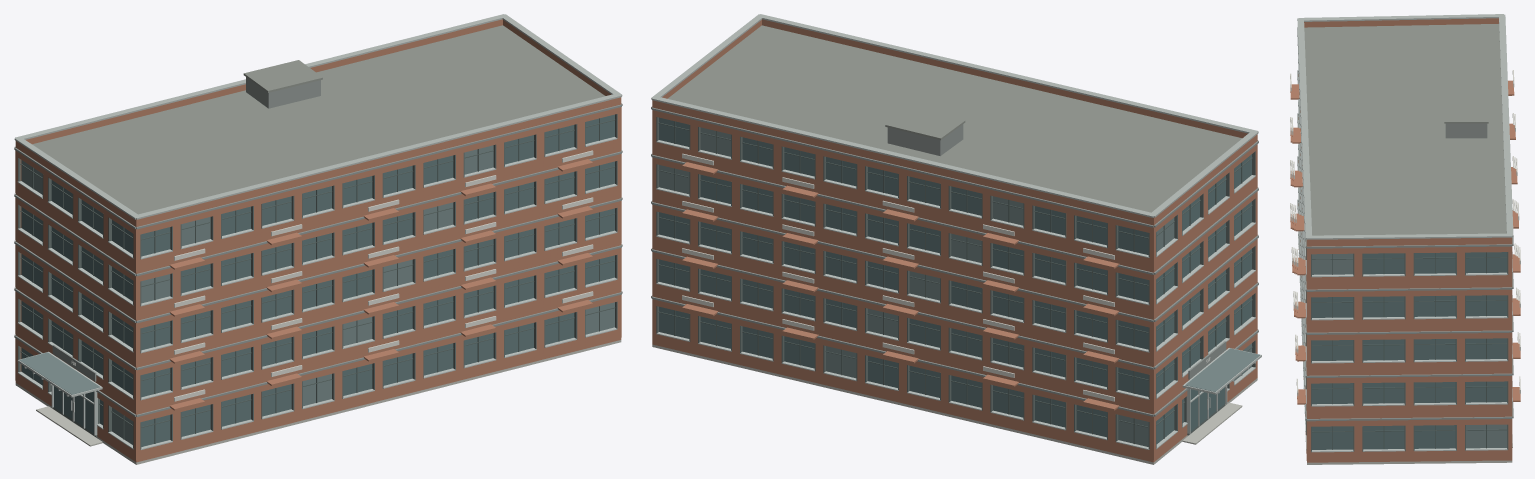
Rendered from mapped_1135360085.glb.
The picture shows the model from 3 angles, left to right: view 1: azimuth 30°, elevation 25°; view 2: azimuth 150°, elevation 25°; view 3: azimuth 270°, elevation 25°; orthographic projection. The views are drawn at different scales.
Visible parts, largest first — view 1: mapped_1135360085_CampusBrick, mapped_1135360085_FacultyRoof, mapped_1135360085_WindowGlass, mapped_1135360085_WindowReveal, mapped_1135360085_FacultyDarkPanel, mapped_1135360085_WindowAluminium, mapped_1135360085_WindowGlassLight, mapped_1135360085_Teaching5TileJoint, mapped_1135360085_WindowRubber, mapped_1135360085_WhiteTrim, mapped_1135360085_EntryStone; view 2: mapped_1135360085_CampusBrick, mapped_1135360085_FacultyRoof, mapped_1135360085_WindowGlass, mapped_1135360085_WindowAluminium, mapped_1135360085_WindowReveal, mapped_1135360085_FacultyDarkPanel, mapped_1135360085_WindowGlassLight, mapped_1135360085_Teaching5TileJoint, mapped_1135360085_WindowRubber, mapped_1135360085_WhiteTrim, mapped_1135360085_EntryStone; view 3: mapped_1135360085_FacultyRoof, mapped_1135360085_CampusBrick, mapped_1135360085_WindowGlass, mapped_1135360085_FacultyDarkPanel, mapped_1135360085_Teaching5TileJoint, mapped_1135360085_WindowAluminium, mapped_1135360085_WindowGlassLight, mapped_1135360085_WindowRubber, mapped_1135360085_WindowReveal, mapped_1135360085_WhiteTrim, mapped_1135360085_EntryStone.
Part boxes in pixels (x1=…): mapped_1135360085_CampusBrick: x1=15, y1=19, x2=621, y2=462; mapped_1135360085_FacultyRoof: x1=32, y1=25, x2=605, y2=214; mapped_1135360085_WindowGlass: x1=21, y1=114, x2=614, y2=446; mapped_1135360085_WindowReveal: x1=18, y1=114, x2=617, y2=449; mapped_1135360085_FacultyDarkPanel: x1=14, y1=77, x2=622, y2=417; mapped_1135360085_WindowAluminium: x1=17, y1=137, x2=617, y2=449; mapped_1135360085_WindowGlassLight: x1=19, y1=145, x2=614, y2=444; mapped_1135360085_Teaching5TileJoint: x1=14, y1=14, x2=622, y2=219; mapped_1135360085_WindowRubber: x1=20, y1=118, x2=615, y2=443; mapped_1135360085_WhiteTrim: x1=174, y1=150, x2=593, y2=401; mapped_1135360085_EntryStone: x1=15, y1=340, x2=621, y2=464; mapped_1135360085_CampusBrick: x1=652, y1=19, x2=1257, y2=462; mapped_1135360085_FacultyRoof: x1=668, y1=25, x2=1241, y2=212; mapped_1135360085_WindowGlass: x1=659, y1=117, x2=1251, y2=443; mapped_1135360085_WindowAluminium: x1=656, y1=140, x2=1261, y2=449; mapped_1135360085_WindowReveal: x1=656, y1=117, x2=1255, y2=449; mapped_1135360085_FacultyDarkPanel: x1=651, y1=106, x2=1258, y2=416; mapped_1135360085_WindowGlassLight: x1=659, y1=127, x2=1259, y2=446; mapped_1135360085_Teaching5TileJoint: x1=651, y1=14, x2=1258, y2=217; mapped_1135360085_WindowRubber: x1=658, y1=121, x2=1252, y2=443; mapped_1135360085_WhiteTrim: x1=682, y1=153, x2=1114, y2=401; mapped_1135360085_EntryStone: x1=652, y1=344, x2=1257, y2=464; mapped_1135360085_FacultyRoof: x1=1304, y1=24, x2=1506, y2=235; mapped_1135360085_CampusBrick: x1=1290, y1=18, x2=1520, y2=462; mapped_1135360085_WindowGlass: x1=1312, y1=252, x2=1506, y2=449; mapped_1135360085_FacultyDarkPanel: x1=1297, y1=27, x2=1513, y2=421; mapped_1135360085_Teaching5TileJoint: x1=1297, y1=14, x2=1513, y2=239; mapped_1135360085_WindowAluminium: x1=1298, y1=59, x2=1512, y2=452; mapped_1135360085_WindowGlassLight: x1=1312, y1=253, x2=1506, y2=448; mapped_1135360085_WindowRubber: x1=1312, y1=252, x2=1506, y2=449; mapped_1135360085_WindowReveal: x1=1306, y1=248, x2=1508, y2=452; mapped_1135360085_WhiteTrim: x1=1290, y1=70, x2=1520, y2=396; mapped_1135360085_EntryStone: x1=1307, y1=460, x2=1512, y2=464.
Size of the model in its own units: 40.37 by 19.28 by 16.59.
